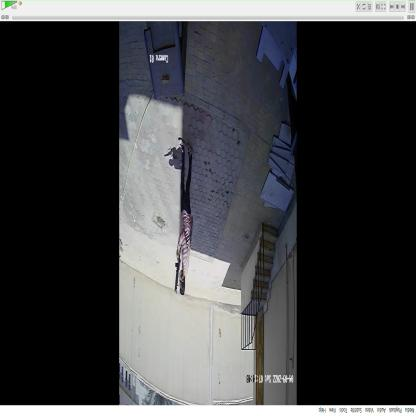handgun: (172, 240, 183, 298)
